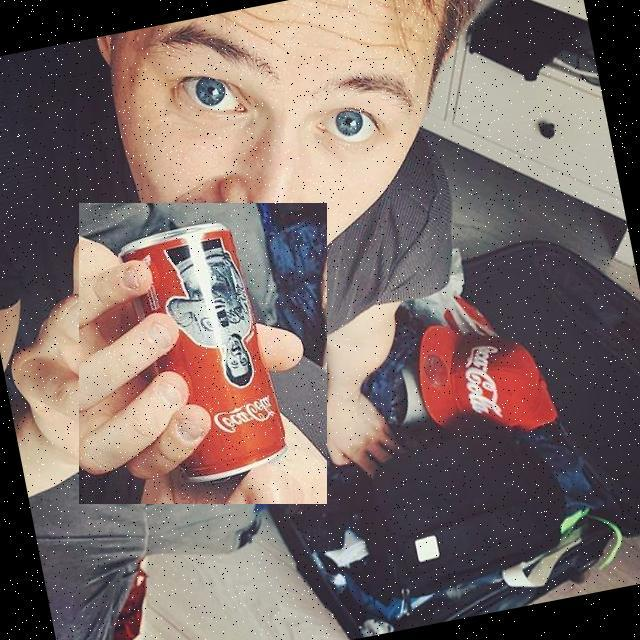coca-cola: (79, 203, 327, 504)
